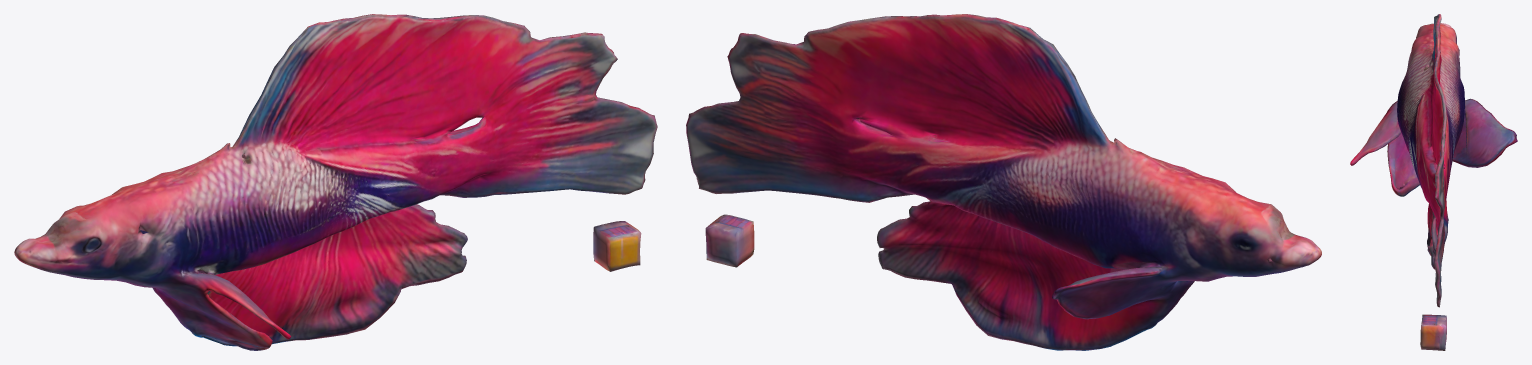
File: Cupang.glb
3 views of the same model, side by side, from view 1: azimuth 30°, elevation 25°; view 2: azimuth 150°, elevation 25°; view 3: azimuth 270°, elevation 25° (orthographic). The views are drawn at different scales.
Bounding box in the file's own units: 1.99 × 0.951 × 0.6244.
Materials: 1 (1 with a texture image).
